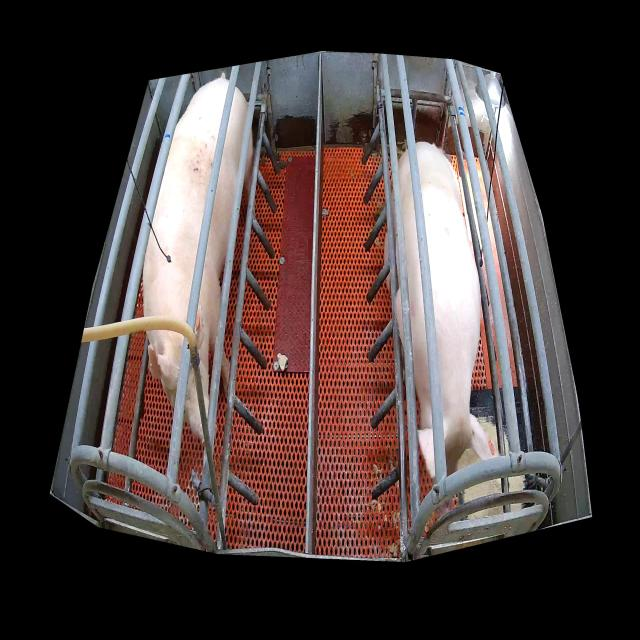pig: (143, 78, 253, 444), (391, 142, 497, 477)
